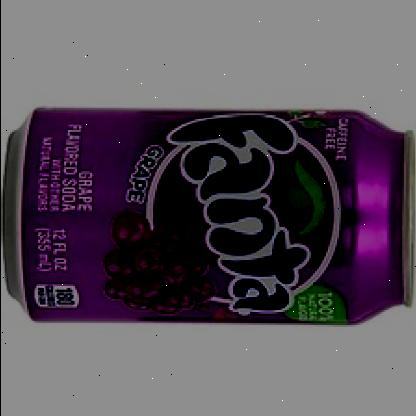Can: (2, 105, 416, 322)
